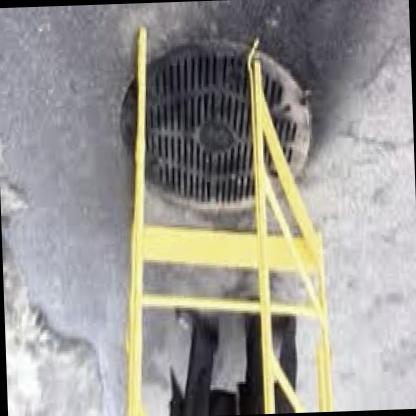manholes: (89, 20, 331, 249)
